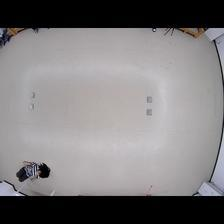fall: (14, 159, 50, 185)
